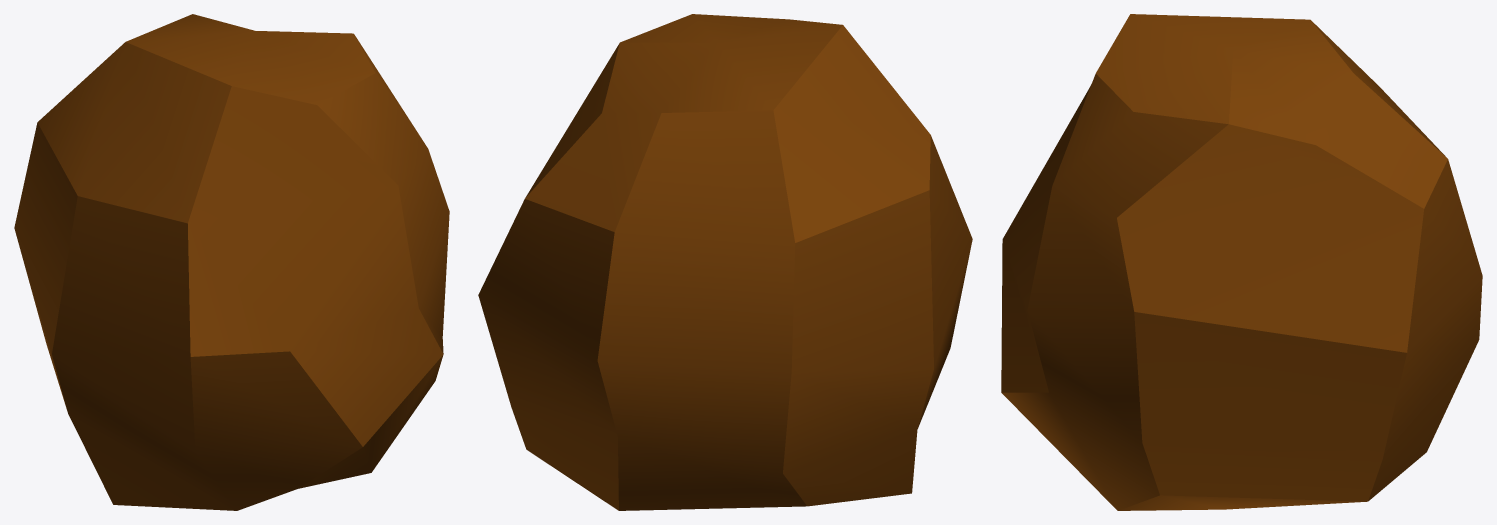
The model's file is Roca.fbx.
3 renders of one model, left to right at view 1: azimuth 30°, elevation 25°; view 2: azimuth 150°, elevation 25°; view 3: azimuth 270°, elevation 25°, orthographic. The views are drawn at different scales.
Visible parts, largest first — view 1: Sphere; view 2: Sphere; view 3: Sphere.
Part boxes in pixels (<box>): Sphere: <box>14,14,449,510</box>; Sphere: <box>478,14,972,510</box>; Sphere: <box>1001,14,1482,510</box>.
Bounding box in the file's own units: 165 × 198 × 187.
